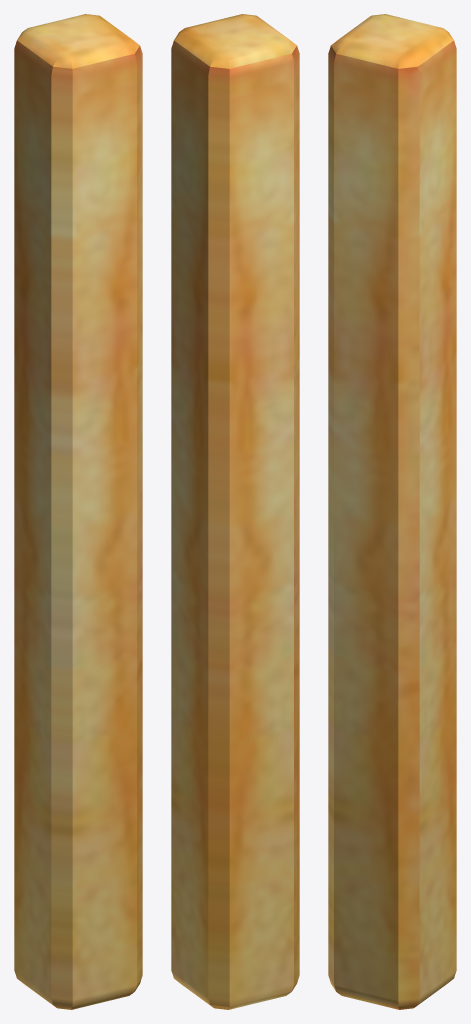
The model's file is enkel patatje We are cooked.fbx.
The picture shows the model from 3 angles, left to right: view 1: azimuth 30°, elevation 25°; view 2: azimuth 210°, elevation 25°; view 3: azimuth 330°, elevation 25°; orthographic projection.
Visible parts, largest first — view 1: french frie.010; view 2: french frie.010; view 3: french frie.010.
Boxes of the visible parts, x1,y1,x2,y2 form: french frie.010: (14,14,142,1009); french frie.010: (171,14,299,1009); french frie.010: (328,14,456,1009).
Size of the model in its own units: 0.75 by 7.5 by 0.75.
